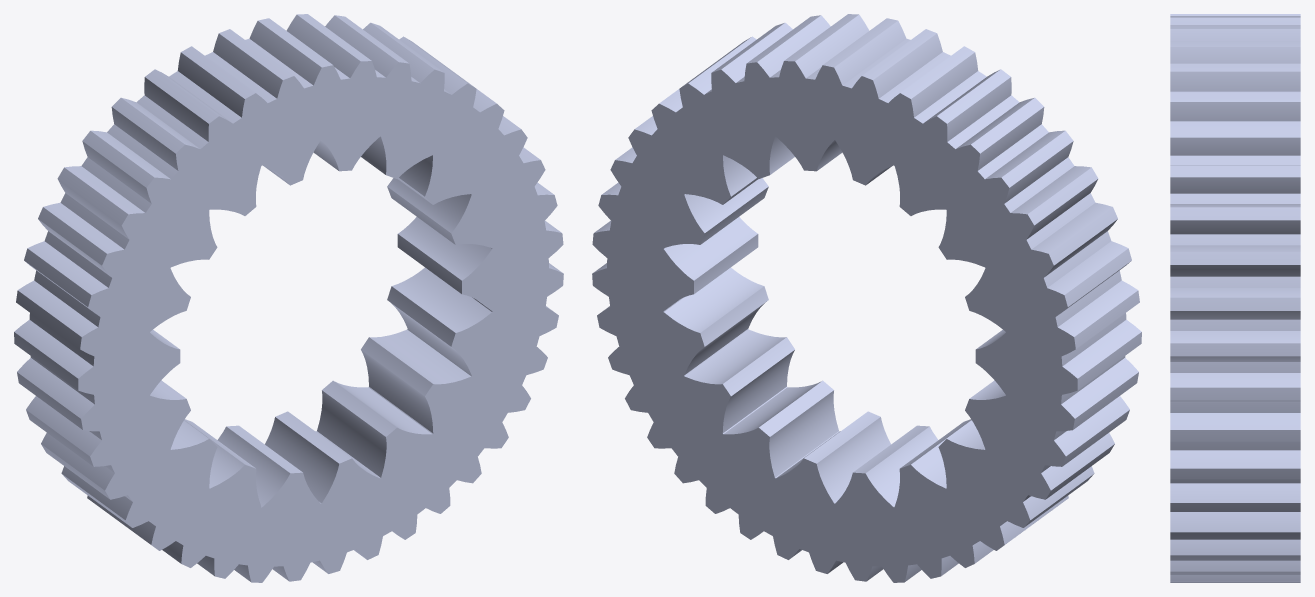
Rendered from REV_21_2103_A01_1_REV_21_2103_P02_1_solid1.obj.
The picture shows the model from 3 angles, left to right: view 1: azimuth 30°, elevation 25°; view 2: azimuth 150°, elevation 25°; view 3: azimuth 270°, elevation 25°; orthographic projection.
Visible parts, largest first — view 1: mesh21433, mesh21457, mesh21467, mesh21485, mesh21454, mesh21460, mesh21463, mesh21484, mesh21332, mesh21448, mesh21374, mesh21378 (+44 smaller); view 2: mesh21434, mesh21457, mesh21467, mesh21485, mesh21454, mesh21460, mesh21463, mesh21484, mesh21332, mesh21448, mesh21374, mesh21378 (+44 smaller); view 3: mesh21380, mesh21426, mesh21384, mesh21422, mesh21388, mesh21418, mesh21376, mesh21392, mesh21414, mesh21430, mesh21396, mesh21410 (+43 smaller).
Boxes of the visible parts, x1=… form: mesh21433: x1=78, y1=61, x2=563, y2=582; mesh21457: x1=392, y1=267, x2=491, y2=332; mesh21467: x1=317, y1=390, x2=386, y2=477; mesh21485: x1=265, y1=417, x2=338, y2=503; mesh21454: x1=398, y1=217, x2=491, y2=280; mesh21460: x1=369, y1=329, x2=470, y2=384; mesh21463: x1=361, y1=350, x2=433, y2=433; mesh21484: x1=217, y1=426, x2=290, y2=506; mesh21332: x1=17, y1=358, x2=94, y2=418; mesh21448: x1=387, y1=178, x2=471, y2=232; mesh21374: x1=249, y1=21, x2=321, y2=85; mesh21378: x1=286, y1=14, x2=360, y2=77; mesh21434: x1=592, y1=61, x2=1077, y2=582; mesh21457: x1=664, y1=267, x2=763, y2=332; mesh21467: x1=769, y1=390, x2=838, y2=477; mesh21485: x1=817, y1=417, x2=890, y2=503; mesh21454: x1=664, y1=217, x2=757, y2=280; mesh21460: x1=685, y1=329, x2=786, y2=384; mesh21463: x1=722, y1=350, x2=794, y2=433; mesh21484: x1=865, y1=426, x2=938, y2=506; mesh21332: x1=1061, y1=358, x2=1138, y2=418; mesh21448: x1=684, y1=178, x2=768, y2=232; mesh21374: x1=834, y1=21, x2=906, y2=85; mesh21378: x1=795, y1=14, x2=869, y2=77; mesh21380: x1=1170, y1=71, x2=1300, y2=91; mesh21426: x1=1170, y1=512, x2=1300, y2=532; mesh21384: x1=1170, y1=102, x2=1300, y2=121; mesh21422: x1=1170, y1=483, x2=1300, y2=502; mesh21388: x1=1170, y1=137, x2=1300, y2=155; mesh21418: x1=1170, y1=450, x2=1300, y2=468; mesh21376: x1=1170, y1=47, x2=1300, y2=63; mesh21392: x1=1170, y1=177, x2=1300, y2=193; mesh21414: x1=1170, y1=413, x2=1300, y2=429; mesh21430: x1=1170, y1=539, x2=1300, y2=555; mesh21396: x1=1170, y1=220, x2=1300, y2=234; mesh21410: x1=1170, y1=373, x2=1300, y2=387.
Size of the model in its own units: 0.02 by 0.02 by 0.00458.
